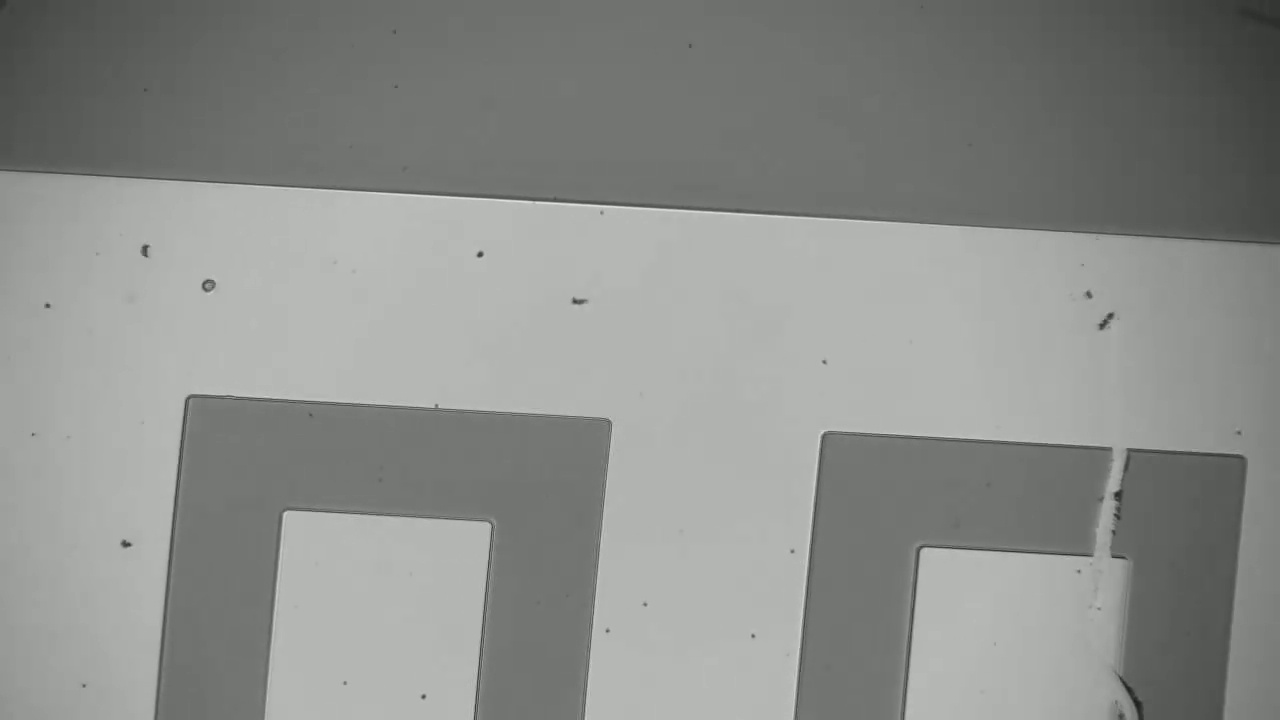Short_circuit: (1066, 429, 1137, 581)
